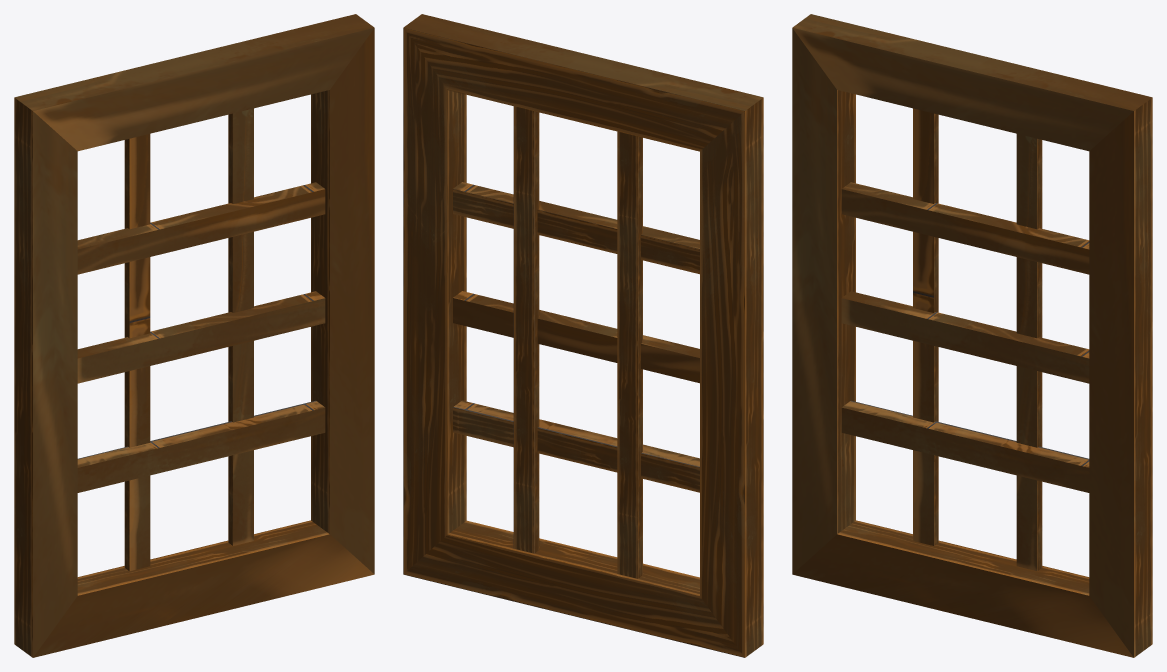
The model's file is window_ff2.fbx.
3 renders of one model, left to right at view 1: azimuth 30°, elevation 25°; view 2: azimuth 150°, elevation 25°; view 3: azimuth 330°, elevation 25°, orthographic.
Visible parts, largest first — view 1: 4x6.037; view 2: 4x6.037; view 3: 4x6.037.
Boxes of the visible parts, x1,y1,x2,y2 form: 4x6.037: (14, 14, 374, 657); 4x6.037: (403, 14, 763, 657); 4x6.037: (792, 14, 1152, 657).
Bounding box in the file's own units: 1.12 × 1.71 × 0.1085.
